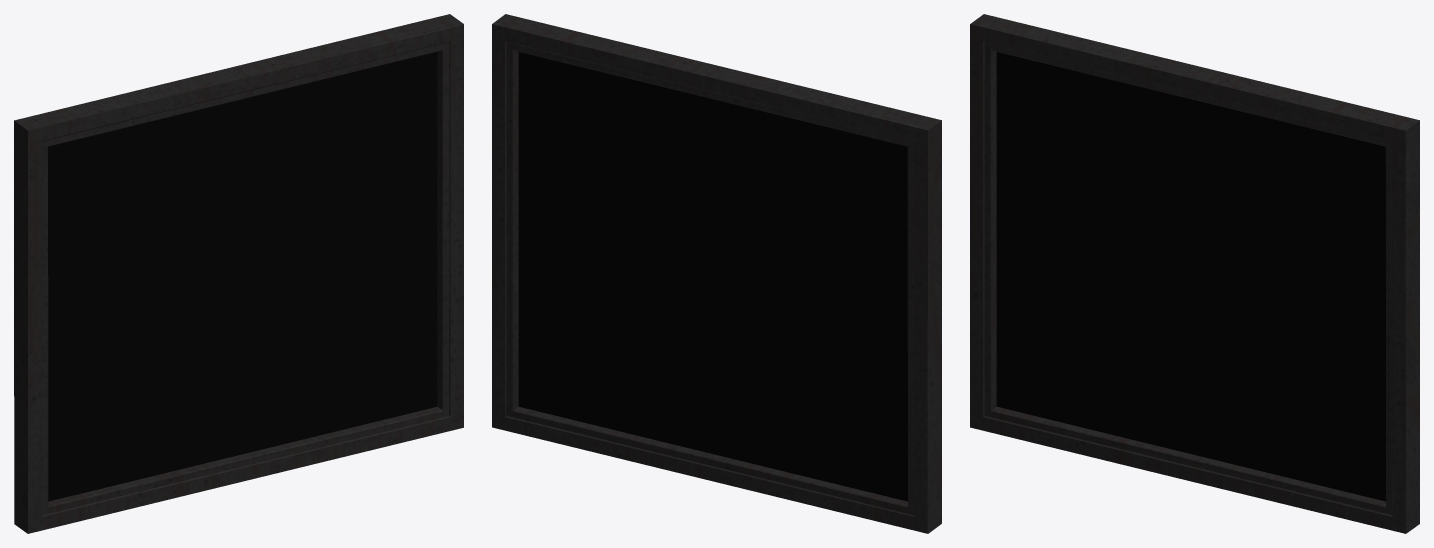
Rendered from WindowFactory73448.spawn_asset6.glb.
3 views of the same model, side by side, from view 1: azimuth 30°, elevation 25°; view 2: azimuth 150°, elevation 25°; view 3: azimuth 330°, elevation 25° (orthographic).
Visible parts, largest first — view 1: WindowFactory(73448).spawn_asset(6).001; view 2: WindowFactory(73448).spawn_asset(6).001; view 3: WindowFactory(73448).spawn_asset(6).001.
Part boxes in pixels (box(x1,y1,x2,y2)): WindowFactory(73448).spawn_asset(6).001: box(14, 14, 463, 533); WindowFactory(73448).spawn_asset(6).001: box(492, 14, 941, 533); WindowFactory(73448).spawn_asset(6).001: box(970, 14, 1419, 533).
Bounding box in the file's own units: 1.61 × 1.42 × 0.0906.
1 material, 1 textured.
